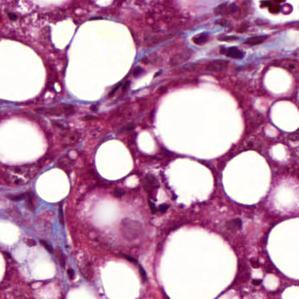steatosis: (0, 37, 46, 104), (266, 217, 299, 279), (94, 137, 133, 181)
